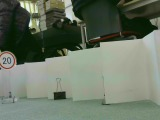speed_20: (1, 49, 17, 69)
